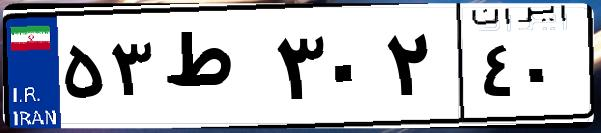0: (330, 28, 385, 110), (525, 38, 570, 115)
2: (385, 28, 445, 110)
3: (270, 28, 330, 110), (110, 28, 158, 98)
4: (475, 38, 525, 113)
5: (57, 26, 110, 100)
ط: (158, 20, 270, 120)
